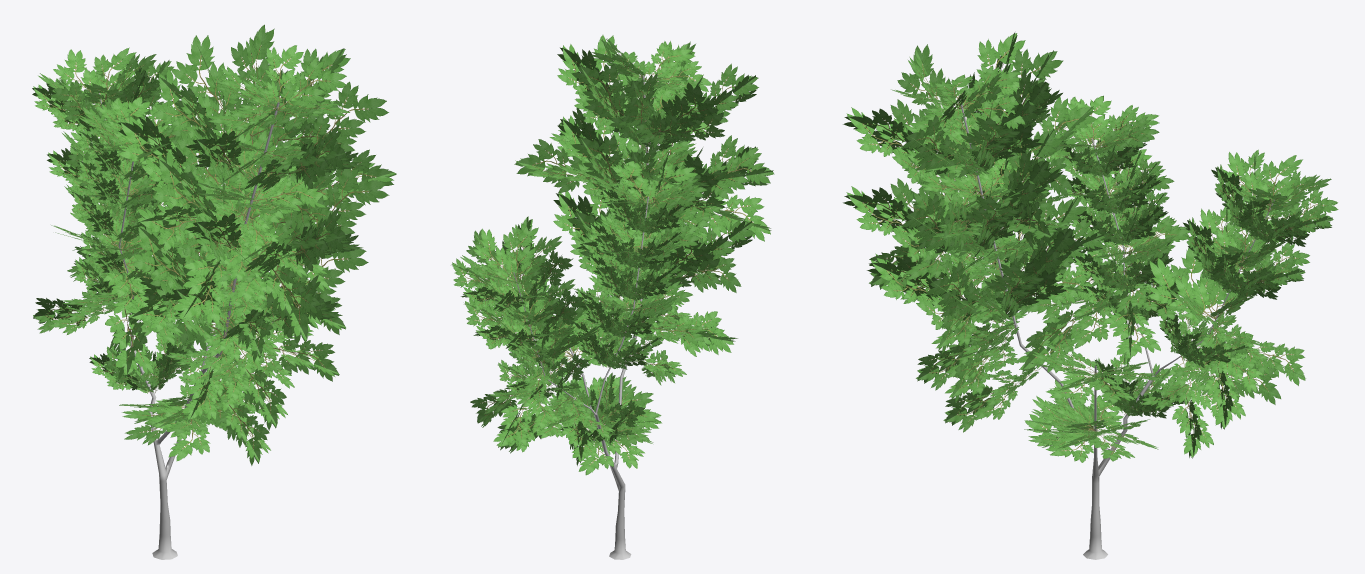
Rendered from GUAMO.fbx.
3 views of the same model, side by side, from view 1: azimuth 30°, elevation 25°; view 2: azimuth 150°, elevation 25°; view 3: azimuth 270°, elevation 25° (orthographic). The views are drawn at different scales.
Parts seen in each view (by area): view 1: GUAMO_LOD0; view 2: GUAMO_LOD0; view 3: GUAMO_LOD0.
Part boxes in pixels (x1,y1,x2,y2): GUAMO_LOD0: (32,24,396,559); GUAMO_LOD0: (451,35,774,559); GUAMO_LOD0: (843,32,1338,559).
Size of what is drawn, in the model's own units: 1.81 by 3.37 by 3.03.
